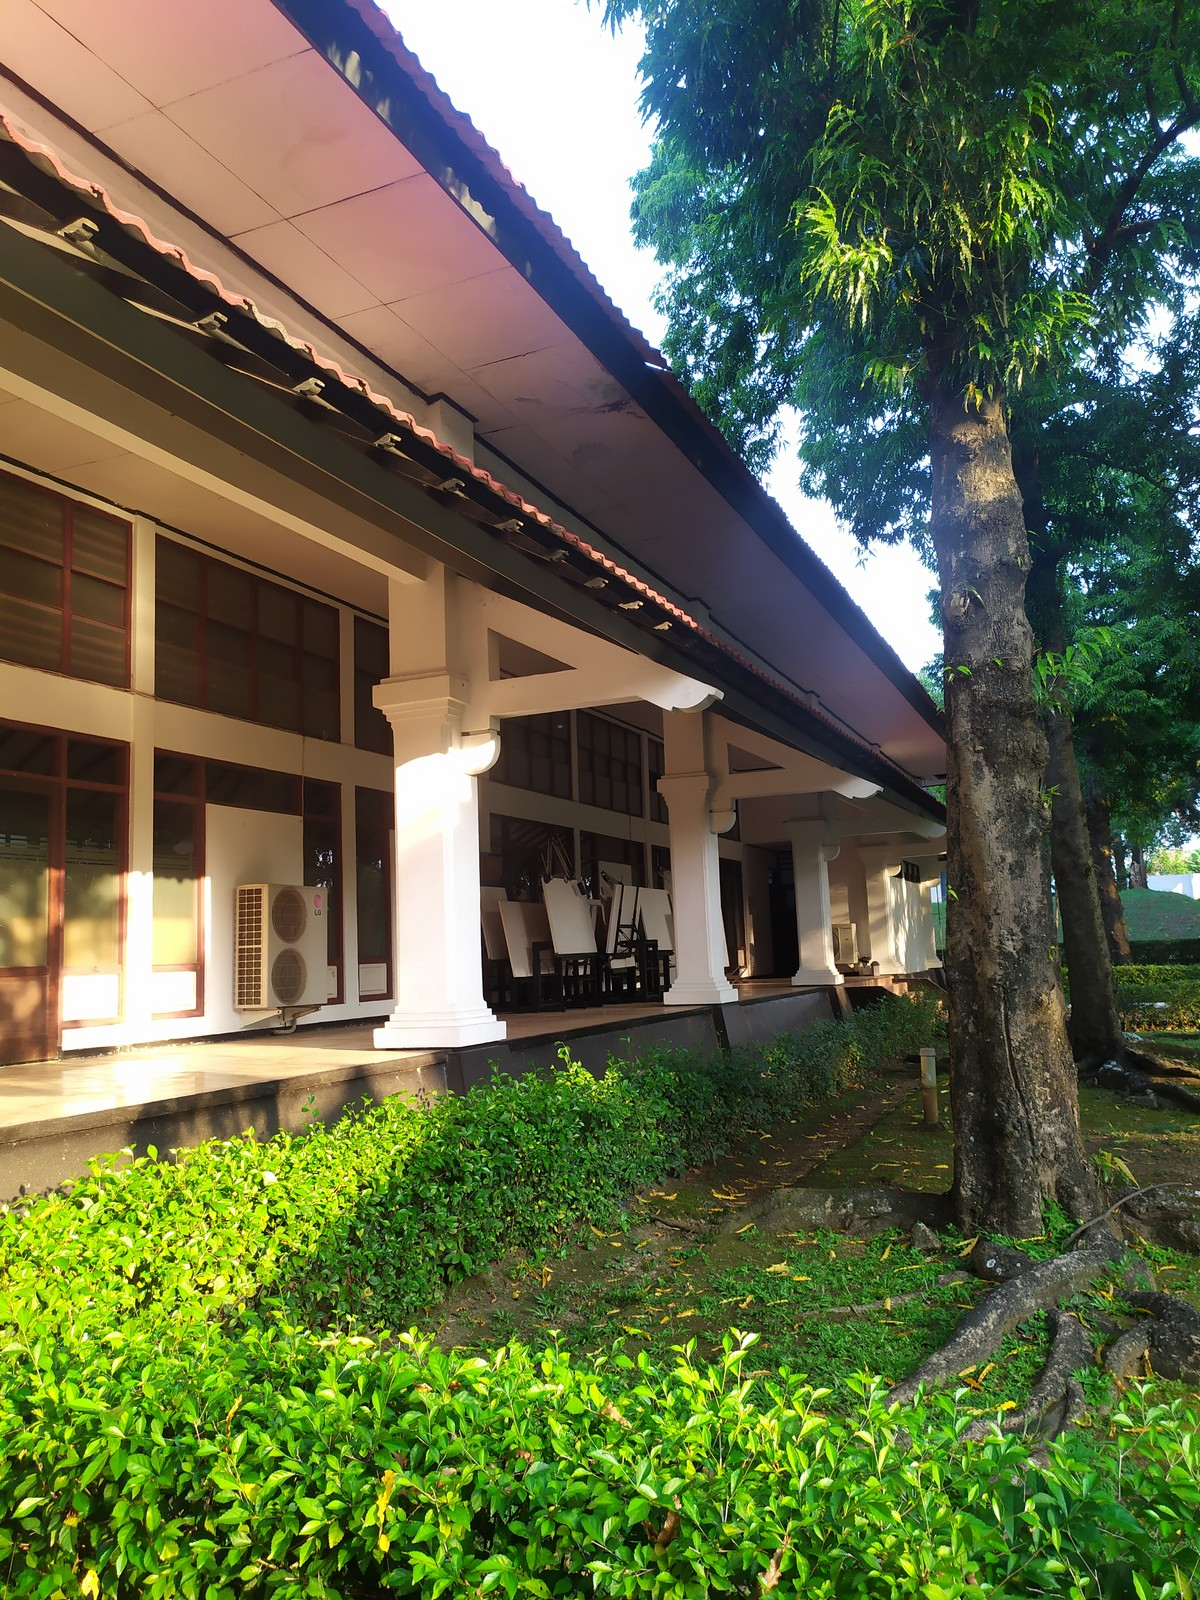concrete column: (382, 675, 504, 1022), (666, 789, 734, 991)
